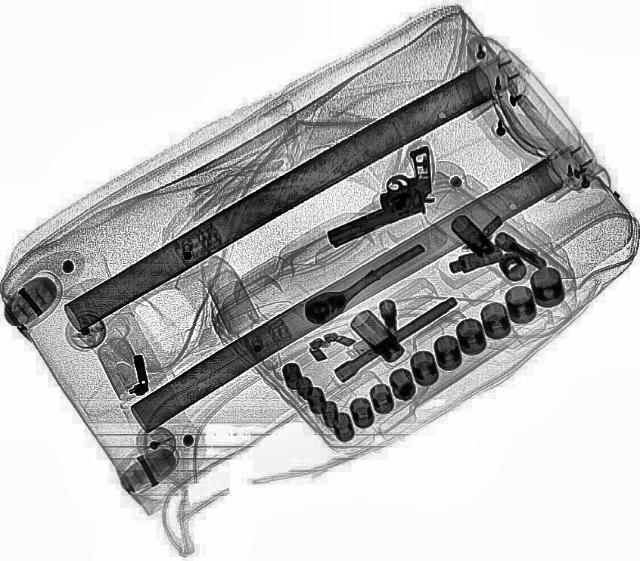Gun: (298, 142, 464, 252)
